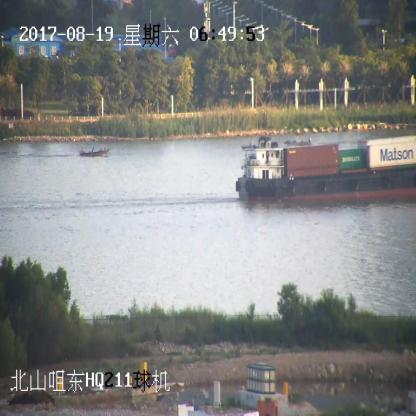Container Ship: (235, 136, 416, 205)
